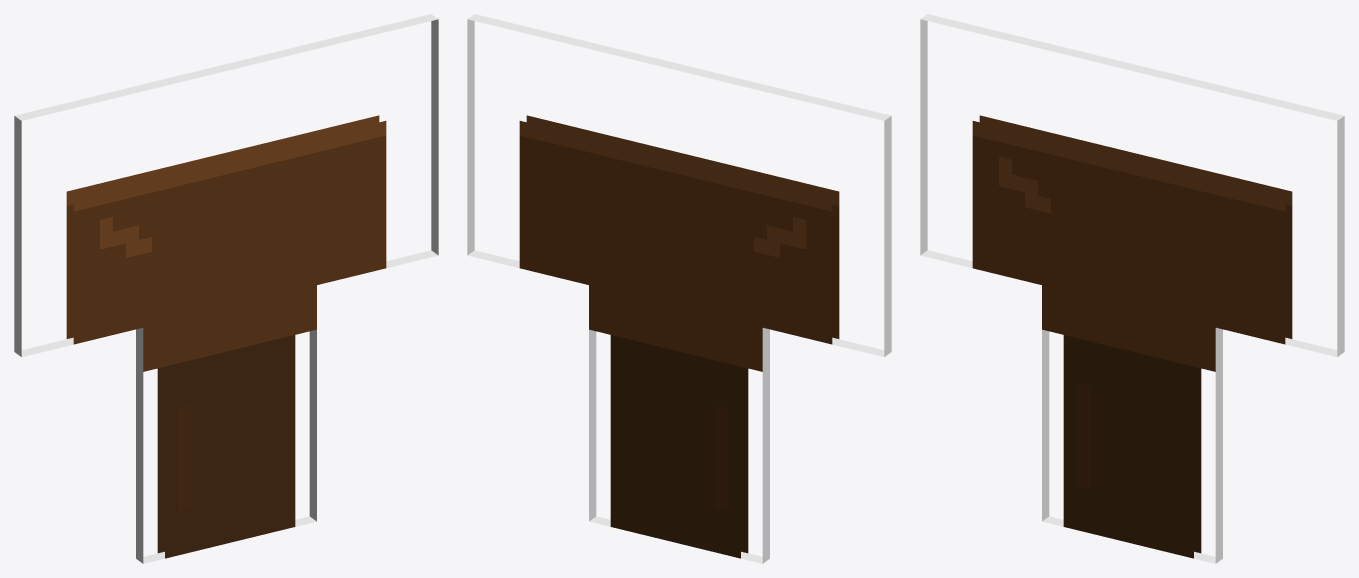
Rendered from 3d sign.dae.
3 renders of one model, left to right at view 1: azimuth 30°, elevation 25°; view 2: azimuth 150°, elevation 25°; view 3: azimuth 330°, elevation 25°, orthographic.
Visible parts, largest first — view 1: Layer_0; view 2: Layer_0; view 3: Layer_0.
Part boxes in pixels (box(x1,y1,x2,y2)): Layer_0: box(14, 14, 438, 563); Layer_0: box(467, 14, 891, 563); Layer_0: box(920, 14, 1344, 563).
Bounding box in the file's own units: 23.99 × 25.99 × 0.72.
Materials: 3 (3 with a texture image).
